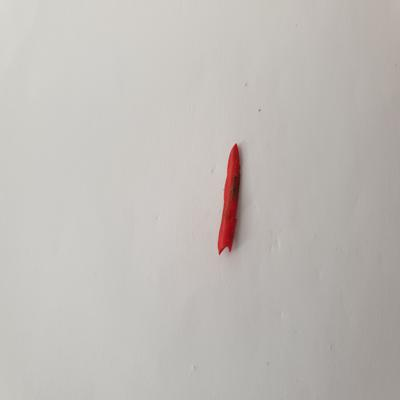plastic: (208, 140, 244, 256)
